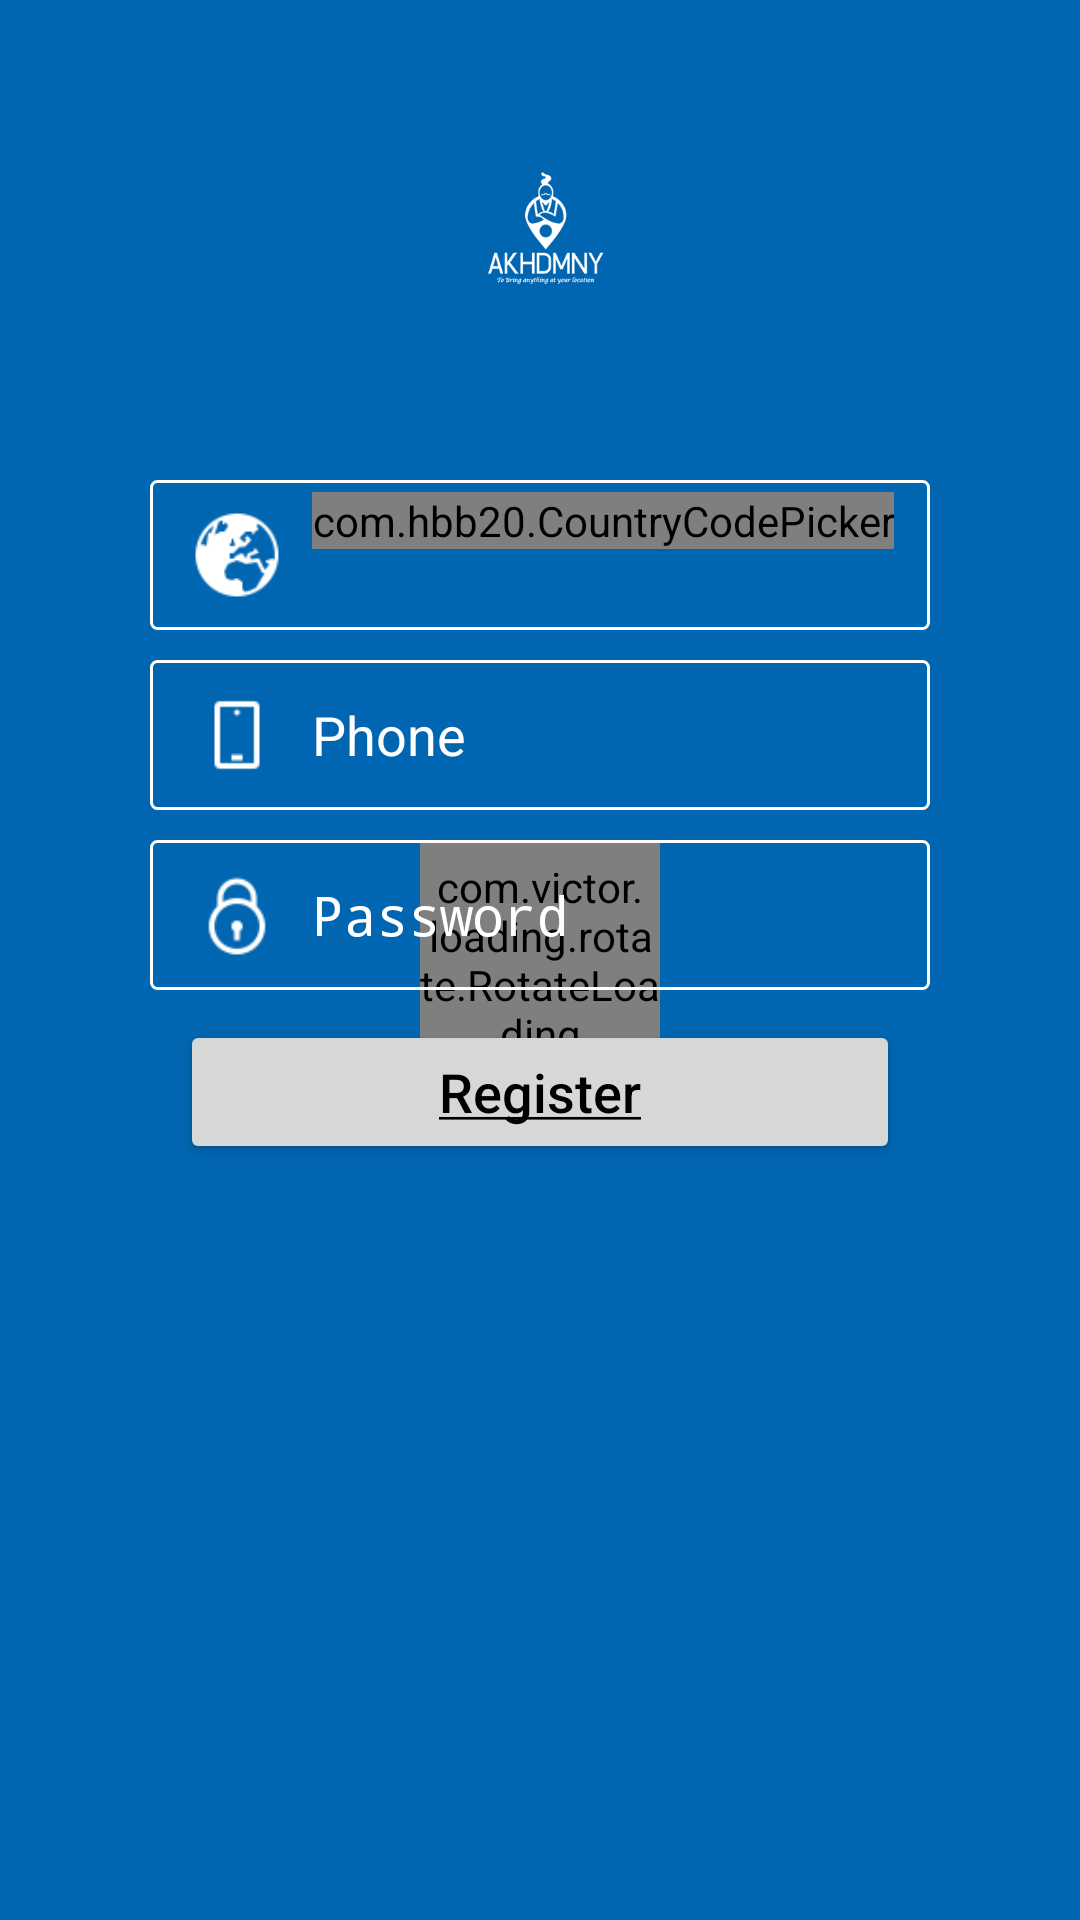

Screen size 1080×1920. Icon name, then its box in pixels as box=[x1, y1, x2, y2]:
mobile: box=[214, 700, 260, 770]
